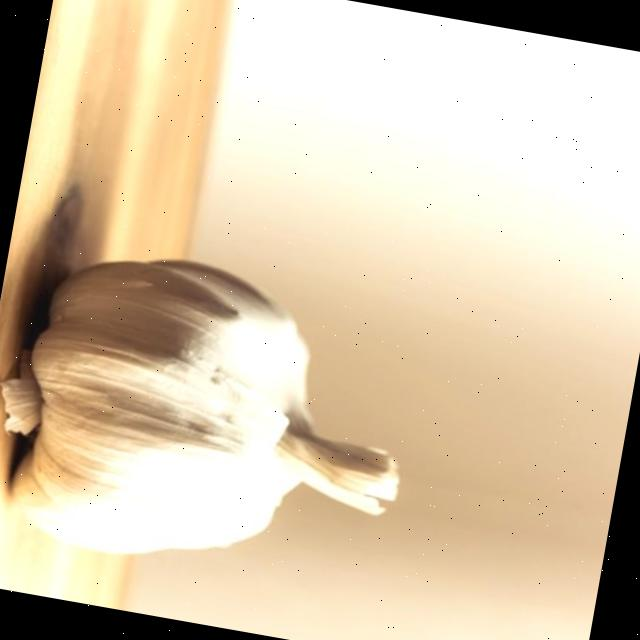garlic: (3, 260, 397, 553)
